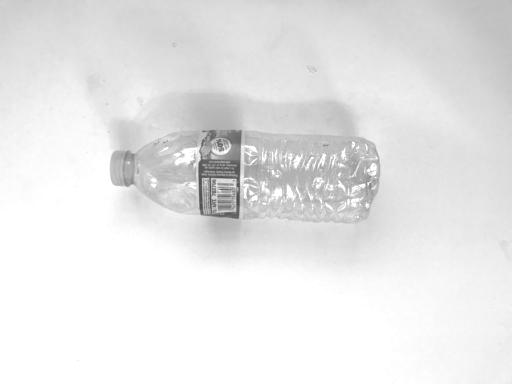bottle: (108, 124, 381, 226)
